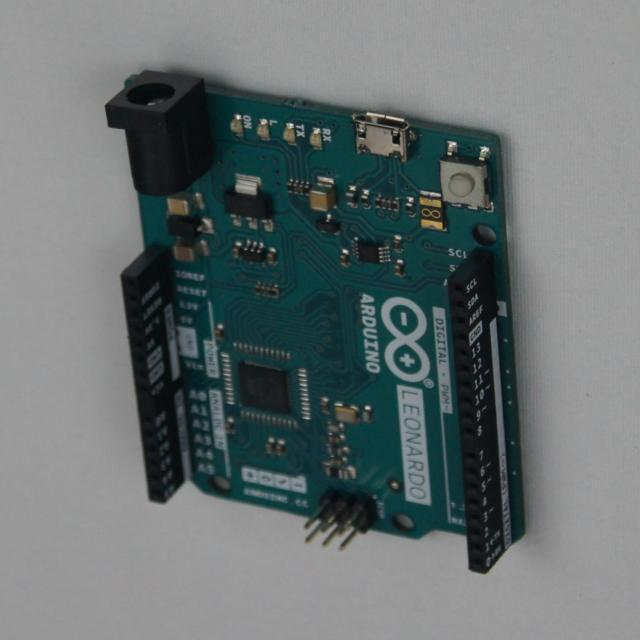Arduino-leonardo: (106, 72, 525, 573)
